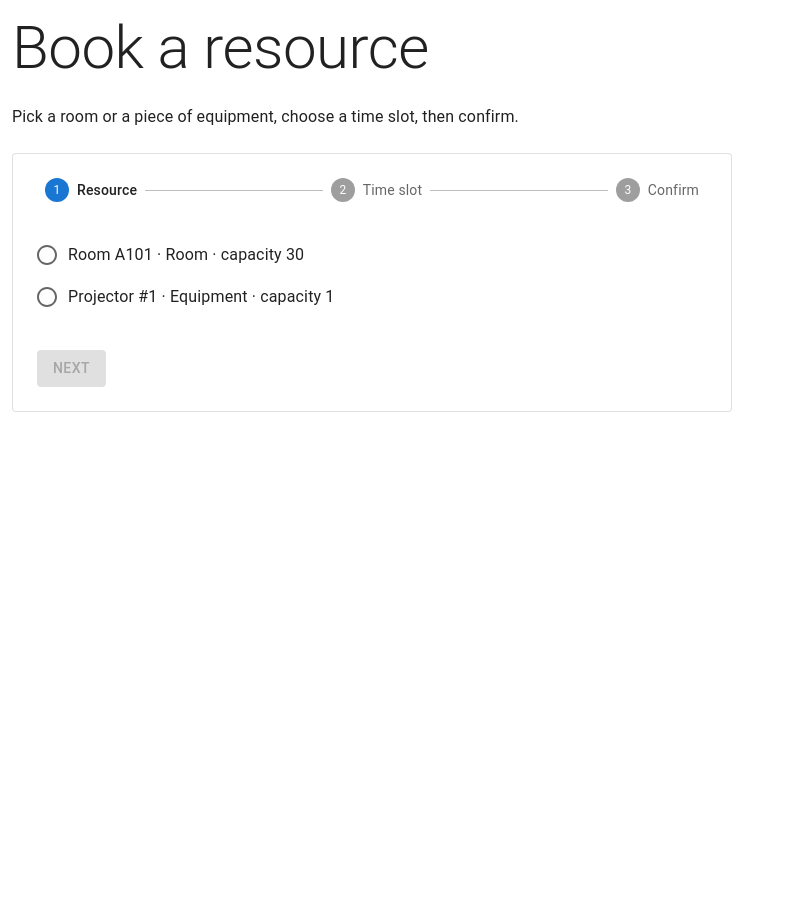
Test case: BookingPage (US-03, US-07) › books after confirmation, then notifies and calls onBooked
Click the radio button labelled "Room A101 · Room · capacity 30" at point(170, 255), box left=35, top=243, right=304, bottom=267
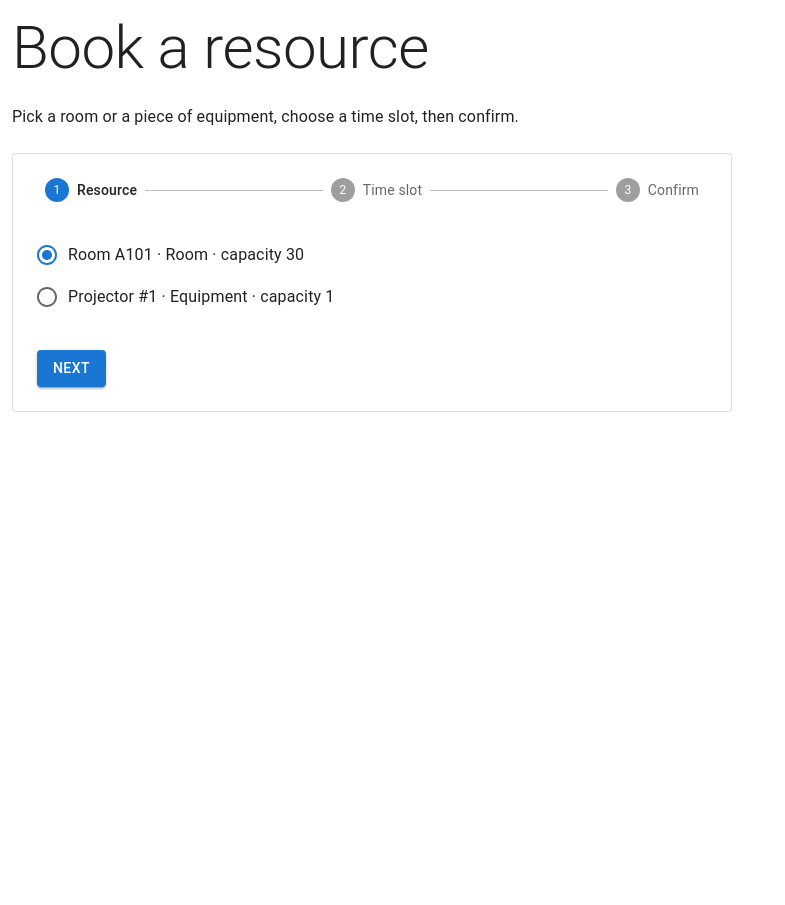
Click the button "Next" at point(71, 368), box left=37, top=350, right=106, bottom=386
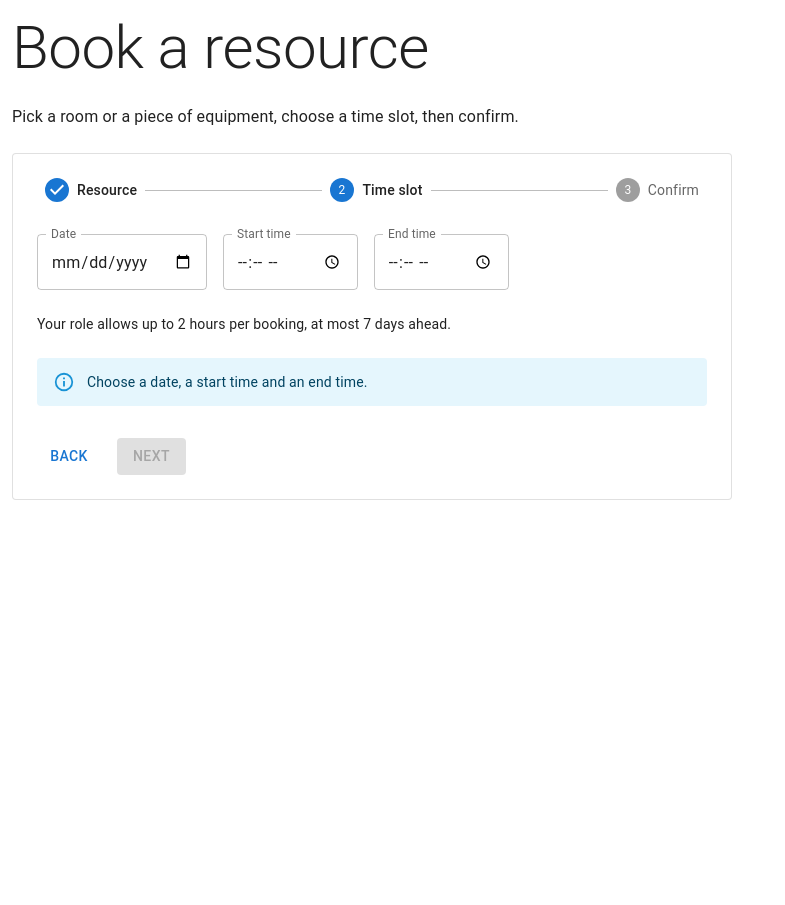
Type "2026-12-01" into the date field labelled "Date" at point(122, 262), box left=37, top=234, right=207, bottom=290
Type "10:00" into the time field labelled "Start time" at point(290, 262), box left=223, top=234, right=358, bottom=290
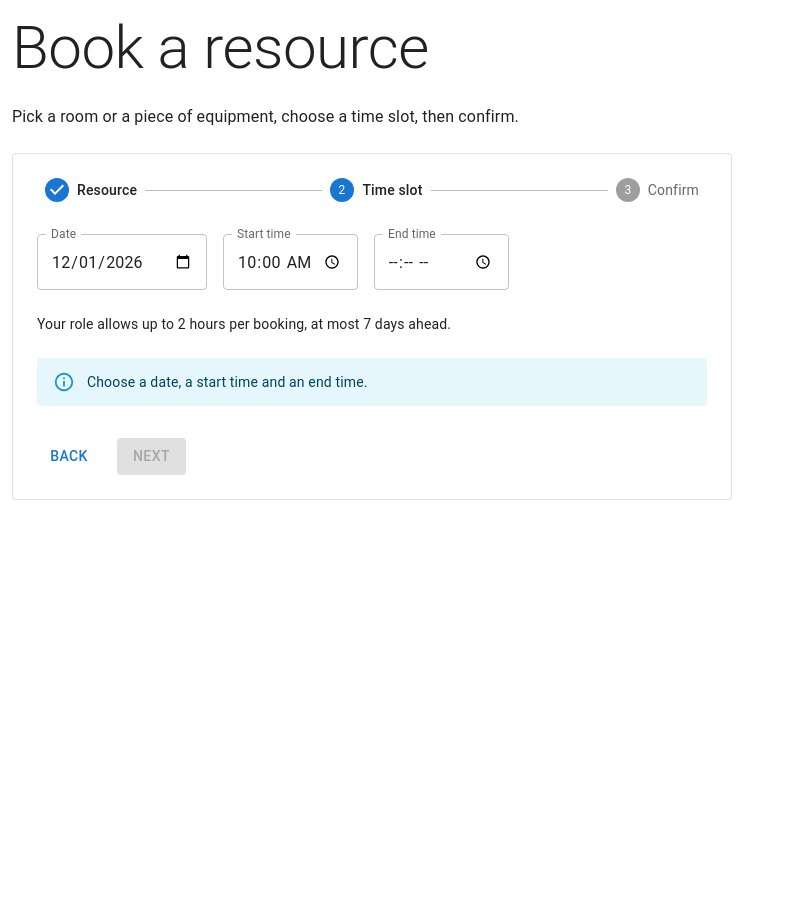
Type "11:00" into the time field labelled "End time" at point(441, 262), box left=374, top=234, right=509, bottom=290
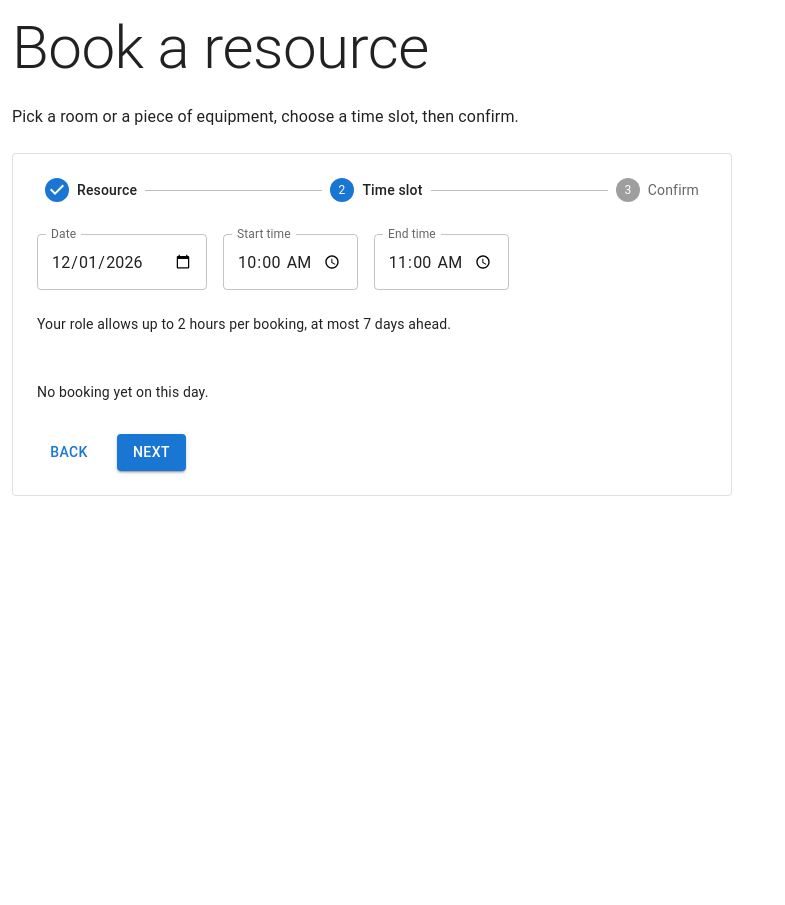
Click the button "Next" at point(151, 452), box left=117, top=434, right=186, bottom=470
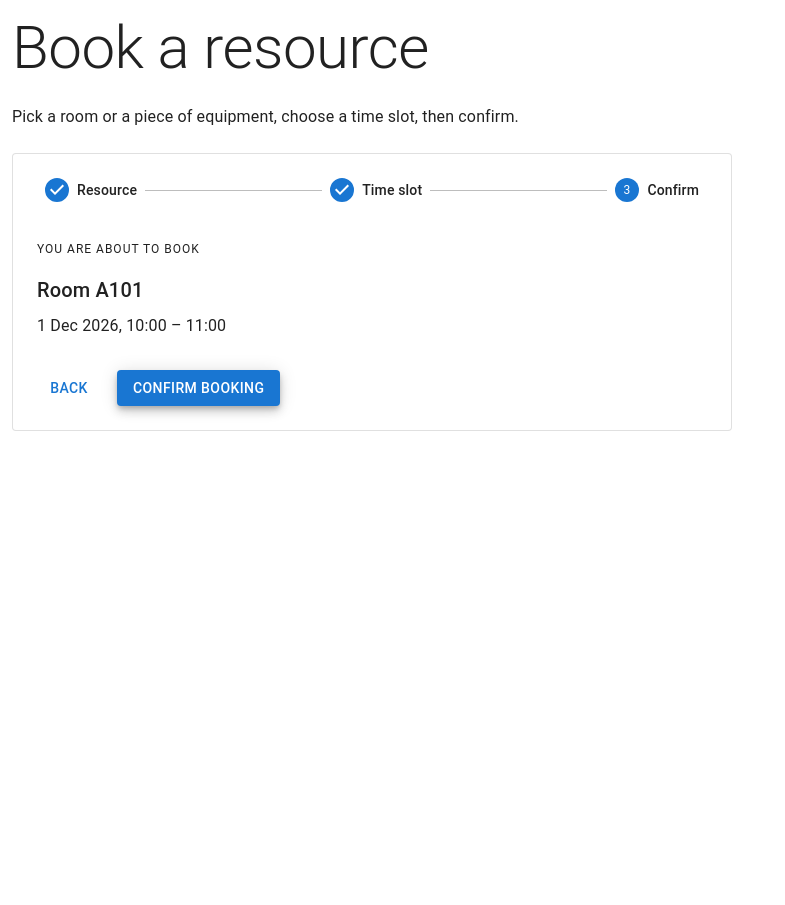
Check: the heading "Room A101" is shown, box left=37, top=278, right=143, bottom=302
Click the button "Confirm booking" at point(199, 388), box left=117, top=370, right=280, bottom=406
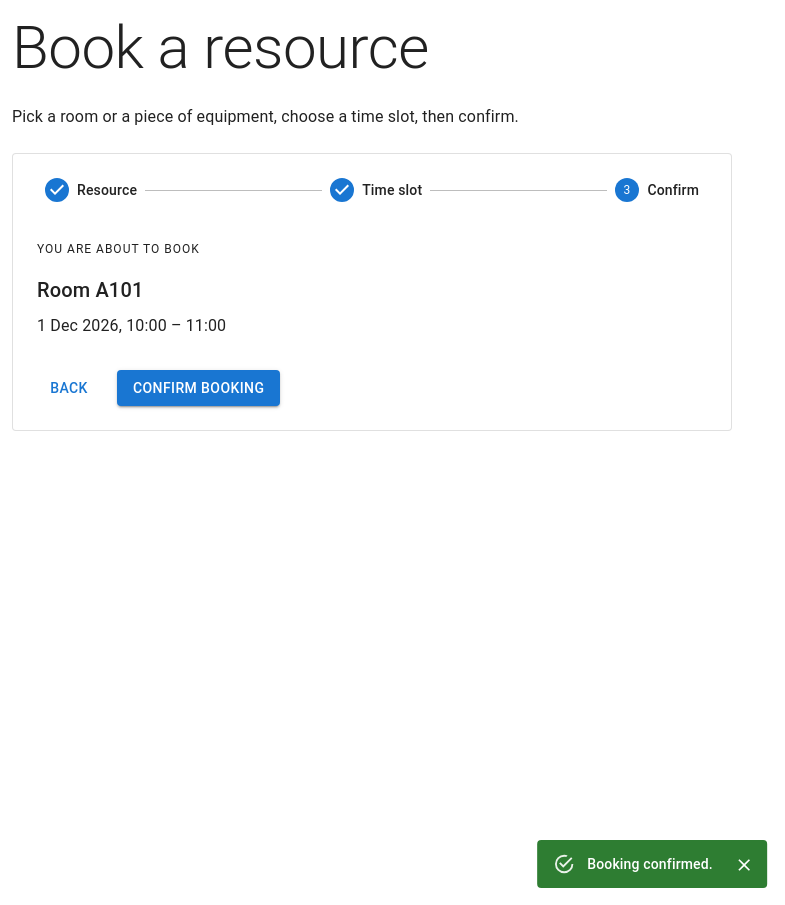
Check: the text "Booking confirmed." is shown, box left=587, top=856, right=713, bottom=872
